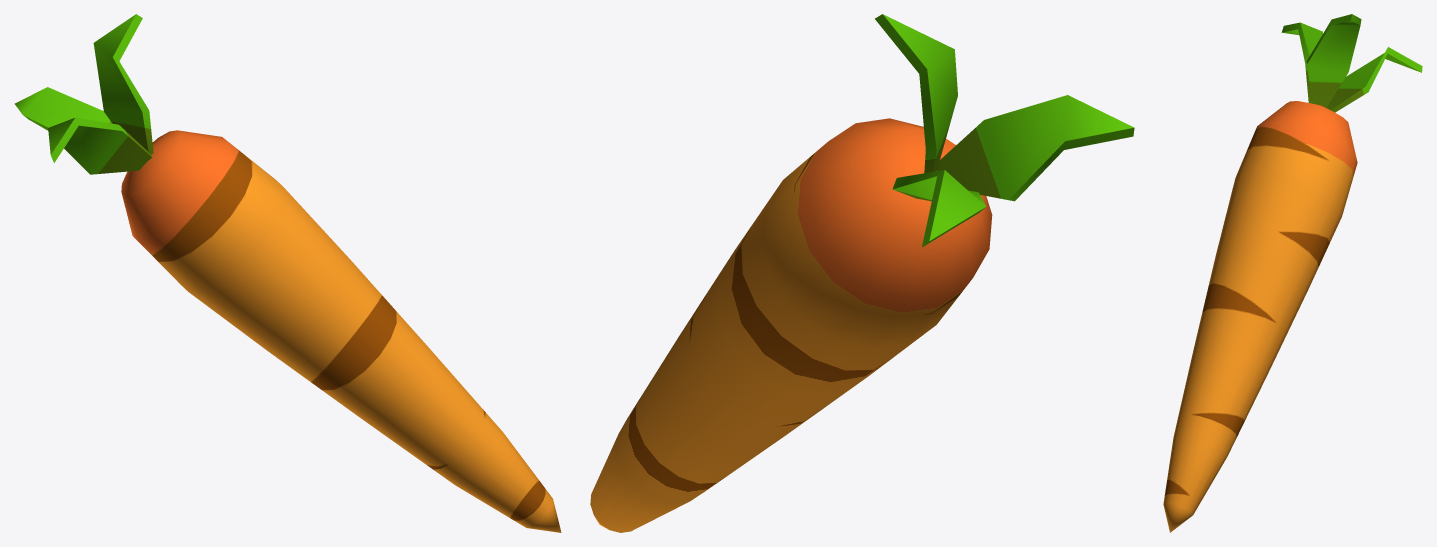
Rendered from ITMC_Zanahoria.FBX.
3 views of the same model, side by side, from view 1: azimuth 30°, elevation 25°; view 2: azimuth 150°, elevation 25°; view 3: azimuth 270°, elevation 25° (orthographic). The views are drawn at different scales.
Visible parts, largest first — view 1: ITMC_Zanahoria; view 2: ITMC_Zanahoria; view 3: ITMC_Zanahoria.
Part boxes in pixels (x1,y1,x2,y2): ITMC_Zanahoria: (14,14,561,532); ITMC_Zanahoria: (590,14,1134,532); ITMC_Zanahoria: (1163,14,1422,532).
Bounding box in the file's own units: 0.9965 × 1.11 × 0.6494.
